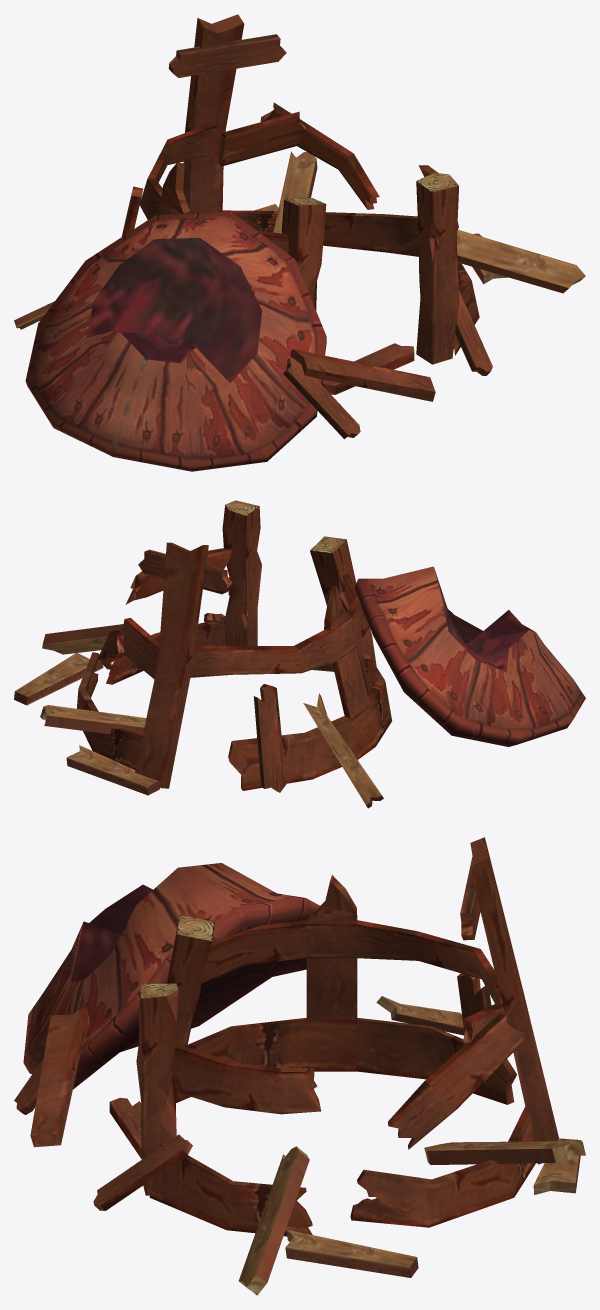
File: Battle01_House_03.FBX
3 views of the same model, one above another, from view 1: azimuth 30°, elevation 25°; view 2: azimuth 150°, elevation 25°; view 3: azimuth 270°, elevation 25° (orthographic). The views are drawn at different scales.
Visible parts, largest first — view 1: Battle01_House_03_01, Battle01_House_03_02, Battle01_House_03_03; view 2: Battle01_House_03_02, Battle01_House_03_01, Battle01_House_03_03; view 3: Battle01_House_03_02, Battle01_House_03_01, Battle01_House_03_03.
Part boxes in pixels (x1,y1,x2,y2): Battle01_House_03_01: [25, 212, 326, 471]; Battle01_House_03_02: [121, 14, 492, 439]; Battle01_House_03_03: [14, 151, 585, 329]; Battle01_House_03_02: [77, 500, 391, 792]; Battle01_House_03_01: [354, 566, 585, 746]; Battle01_House_03_03: [14, 624, 383, 808]; Battle01_House_03_02: [14, 837, 558, 1236]; Battle01_House_03_01: [23, 863, 319, 1089]; Battle01_House_03_03: [238, 996, 585, 1295].
Size of the model in its own units: 17.71 by 8.06 by 13.39.
